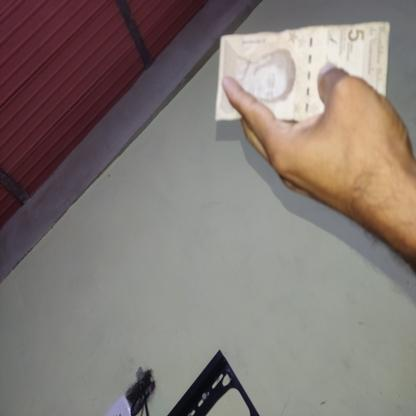five-front-vef: (214, 20, 391, 123)
